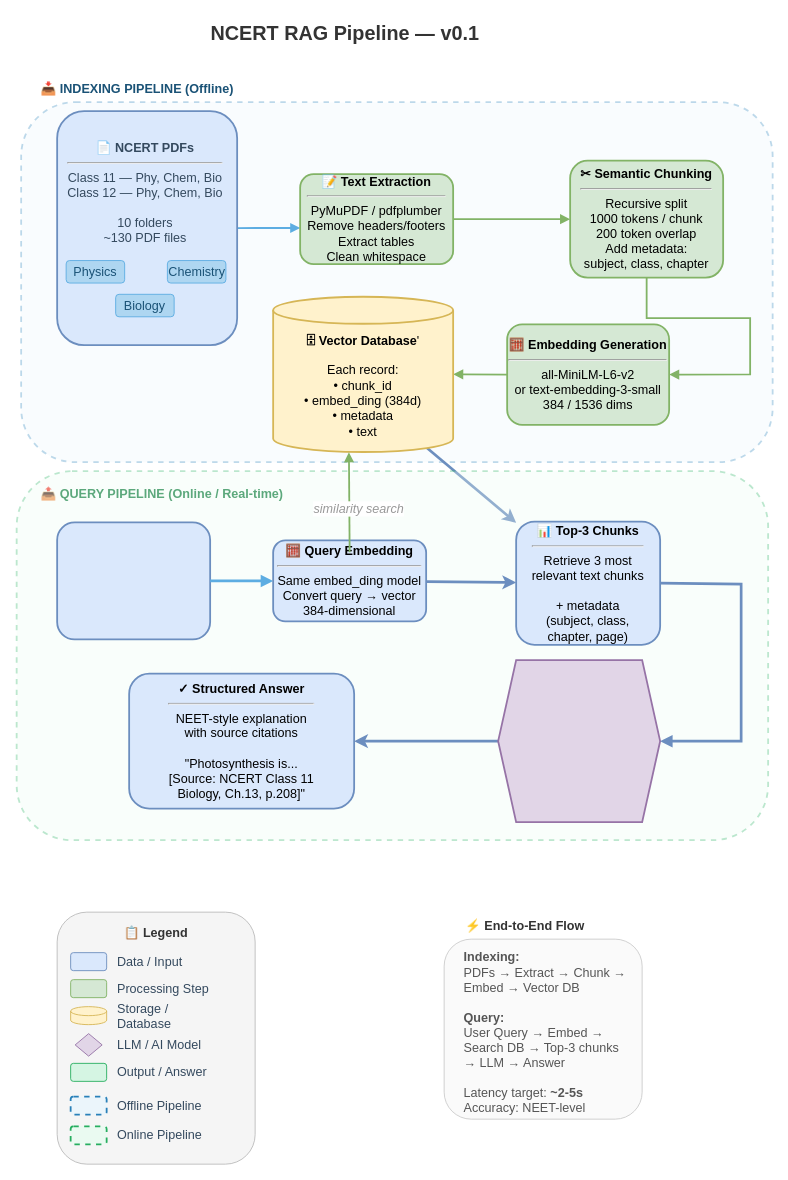
This 788x1180 diagram has some shape labels left out. Here are the shapes that lost their labels. From the top down, the centre of each, then its label:
point (133, 580): ❓ User Query "Explain photosynthesis" REST API FastAPI endpoint POST /query
point (579, 741): 🧠 LLM (Brain) System prompt: "Answer ONLY from NCERT context" temp = 0.1
